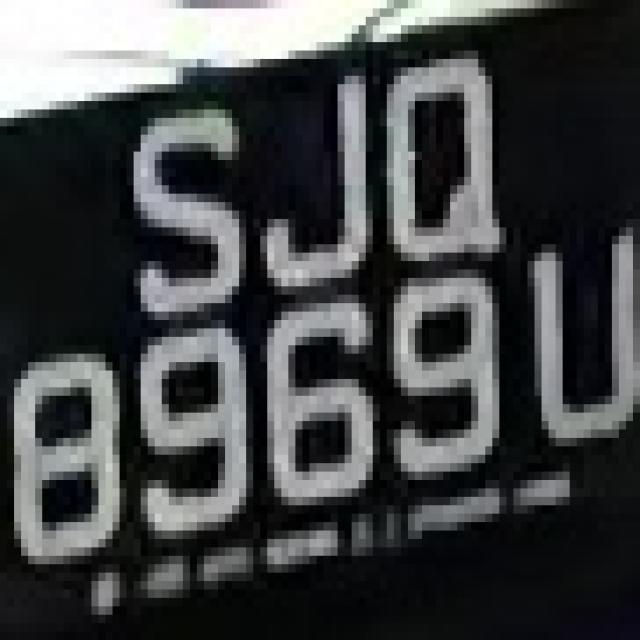6: (246, 294, 380, 530)
8: (14, 337, 141, 581)
9: (120, 312, 246, 548), (387, 261, 506, 505)
J: (246, 42, 380, 295)
Q: (366, 34, 506, 303)
S: (120, 76, 253, 328)
U: (520, 219, 633, 472)
